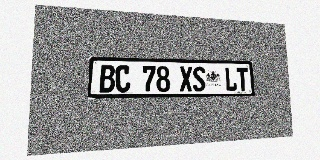7: (142, 66, 156, 92)
8: (156, 66, 170, 92)
B: (99, 65, 115, 93)
C: (115, 65, 130, 92)
L: (225, 67, 237, 91)
S: (193, 66, 206, 91)
T: (236, 67, 249, 91)
X: (179, 66, 193, 92)
